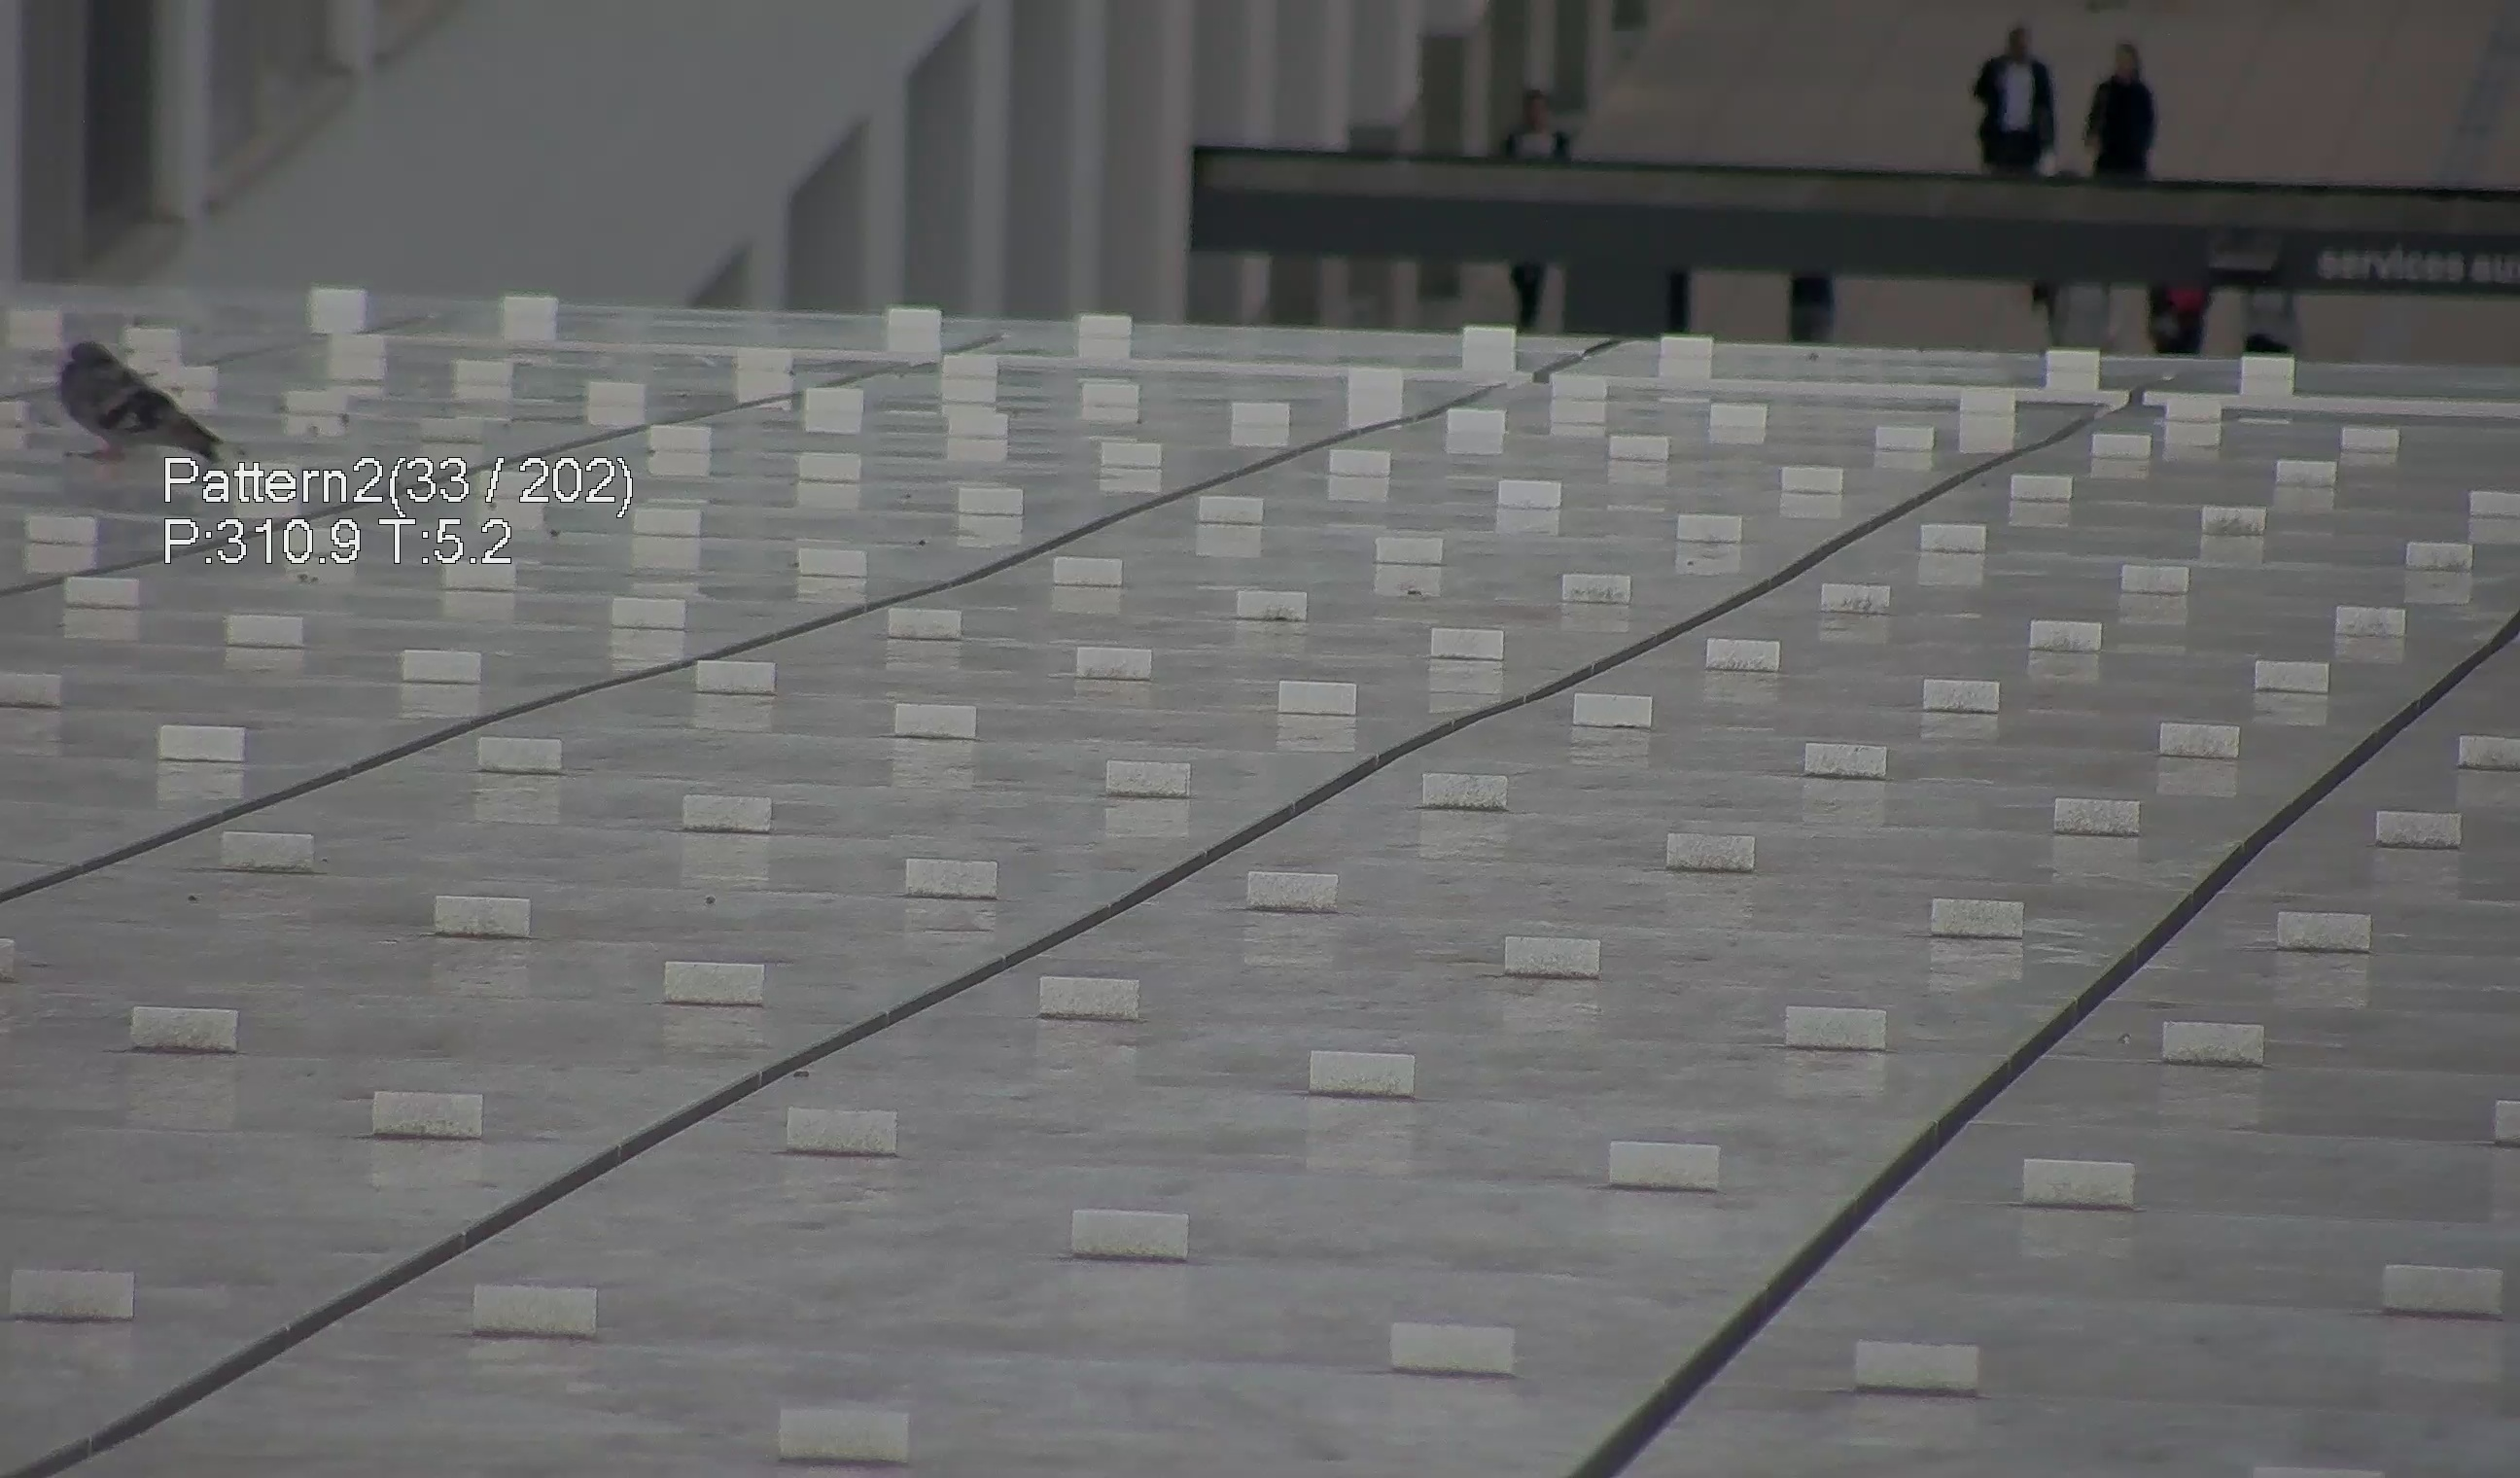Pigeon: (55, 329, 246, 470)
